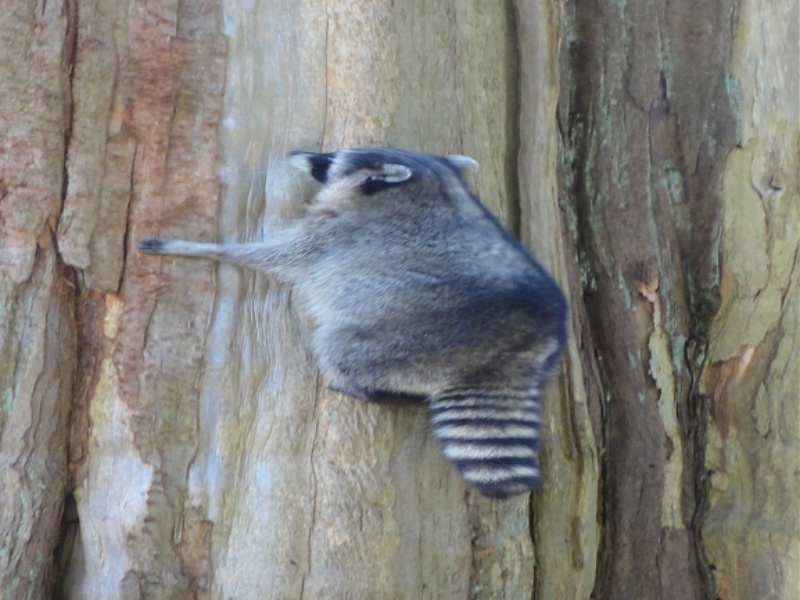raccoon: (129, 144, 571, 504)
